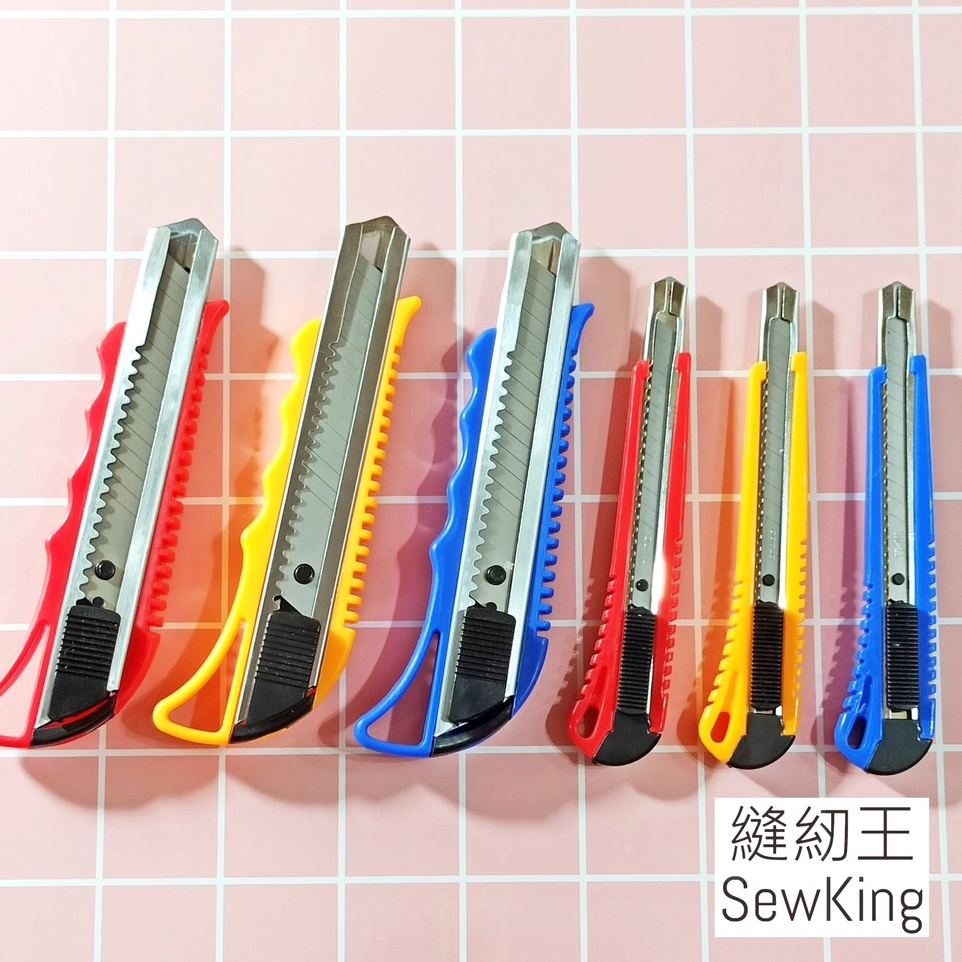cutter: (147, 210, 422, 745), (352, 220, 593, 757), (1, 218, 231, 745), (565, 274, 694, 767), (698, 278, 813, 770), (832, 279, 937, 775)
